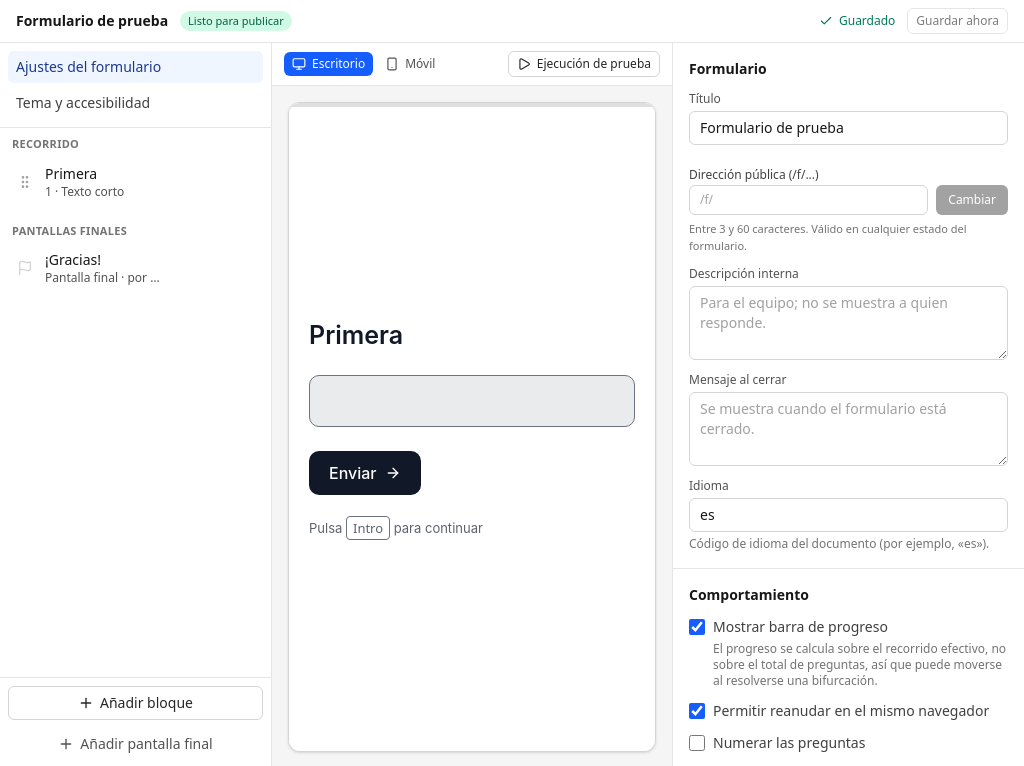
it: panel de tema › enumera las seis parejas con su relación de contraste
Step 1. Click the button "Tema y accesibilidad" → (136, 103), box left=8, top=87, right=263, bottom=119
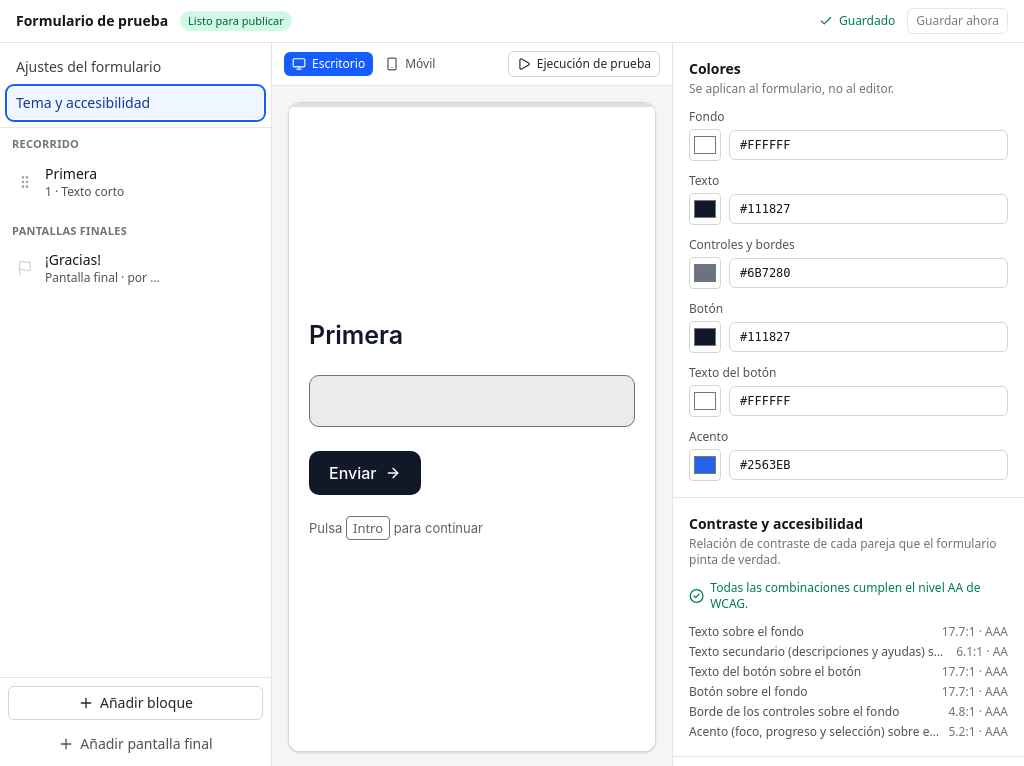
Expected: the list item "Texto sobre el fondo 17.7:1 · AAA" is shown, left=689, top=624, right=1008, bottom=640
